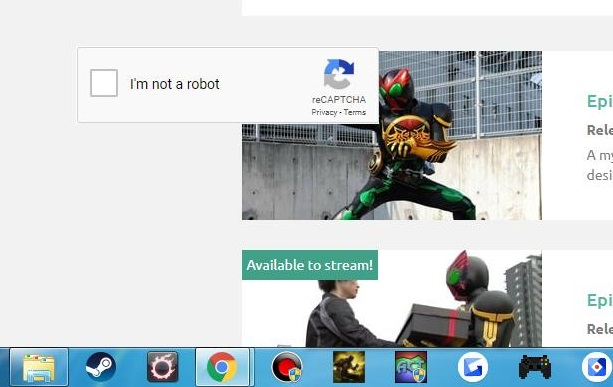captcha: (89, 69, 226, 97)
